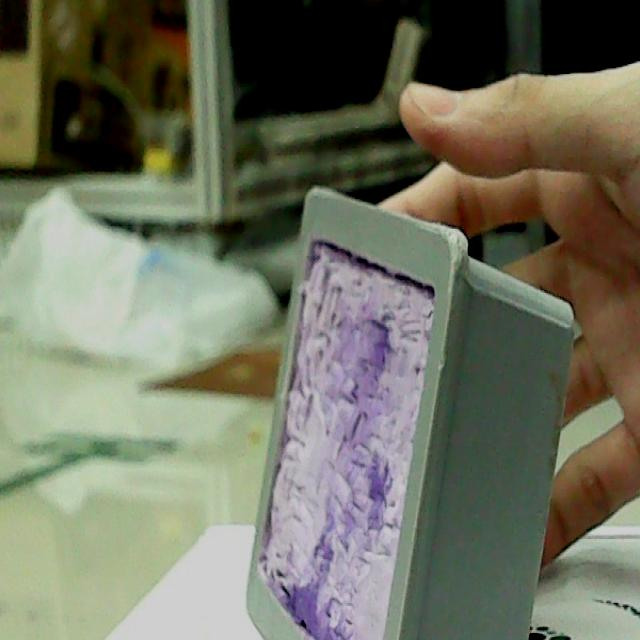block: (253, 186, 575, 640)
